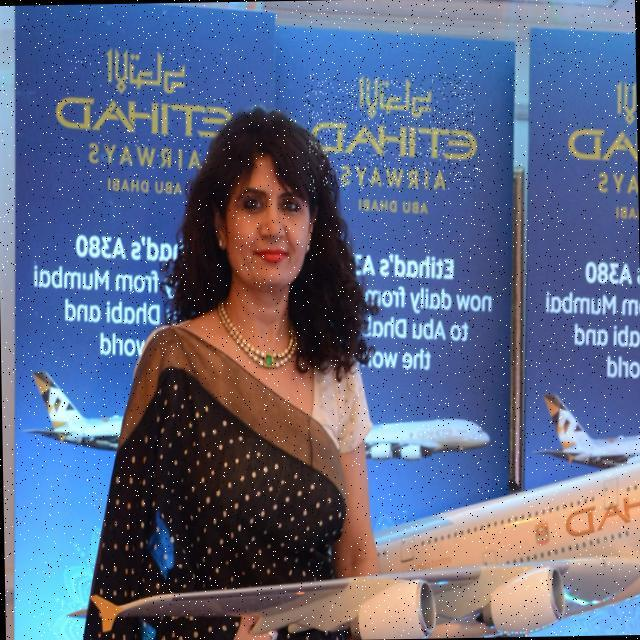Etihad Airways: (55, 46, 232, 173), (305, 73, 476, 191)
